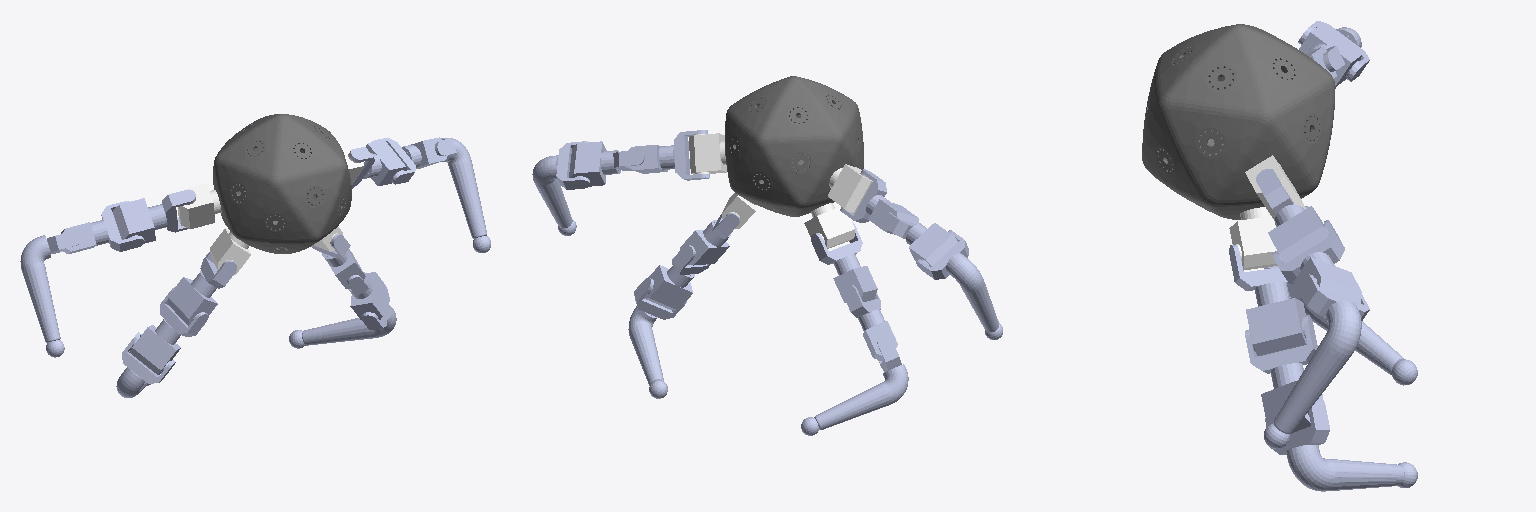
The robot description file, URDF, robot "mod_test":
<?xml version="1.0" encoding="utf-8"?>
<robot
  name="mod_test">
  <link
    name="base_link">
    <inertial>
      <origin
        xyz="-1.5226495220944E-06 1.5812928362389E-07 -5.05247252856584E-07"
        rpy="0 0 0" />
      <mass
        value="0.422806992949252" />
      <inertia
        ixx="0.00237499139253511"
        ixy="1.5717831530364E-08"
        ixz="1.49286265366169E-08"
        iyy="0.00237502154661776"
        iyz="-2.02154172619351E-08"
        izz="0.00237502595466009" />
    </inertial>
    <visual>
      <origin
        xyz="0 0 0"
        rpy="0 0 0" />
      <geometry>
        <mesh
          filename="package://meshes/base_link.STL" />
      </geometry>
      <material
        name="">
        <color
          rgba="0.498039215686275 0.498039215686275 0.498039215686275 1" />
      </material>
    </visual>
    <collision>
      <origin
        xyz="0 0 0"
        rpy="0 0 0" />
      <geometry>
        <mesh
          filename="package://meshes/base_link.STL" />
      </geometry>
    </collision>
  </link>
  <link
   name="160">
   <inertial>
      <origin
        xyz="0 0 0.028508"
        rpy="0 0 0" />
      <mass
        value="0.076173" />
      <inertia
        ixx="3.054E-05"
        ixy="0.000000"
        ixz="-0.000000"
        iyy="2.1077E-05"
        iyz="-0.000000"
        izz="2.1165E-05" />
    </inertial>
    <visual>
      <origin
        xyz="0 0 0"
        rpy="0 0 0" />
      <geometry>
        <mesh
          filename="package://meshes/1.STL" />
      </geometry>
      <material
        name="">
        <color
          rgba="1 1 1 1" />
      </material>
    </visual>
    <collision>
      <origin
        xyz="0 0 0"
        rpy="0 0 0" />
      <geometry>
        <mesh
          filename="package://meshes/1.STL" />
      </geometry>
    </collision>
  </link>
  <joint
    name="body_160"
    type="fixed">
    <origin
        xyz="0.051623 0.016773 -0.071046"
        rpy="-3.141593 0.652404 -2.827433" />
    <parent
      link="base_link" />
    <child
      link="160" />
    <axis
      xyz="0 0 0" />
  </joint>
  <link
    name="161">
    <inertial>
      <origin
        xyz="0.060018 -1.4108E-06 1.4108E-06"
        rpy="0 0 0" />
    <mass
        value="0.10689" />
      <inertia
        ixx="3.2684e-05"
        ixy="-2.5662e-09"
        ixz="2.5662e-09"
        iyy="9.1229e-05"
        iyz="4.0975e-06"
        izz="7.7485e-05" />
    </inertial>
    <visual>
      <origin
        xyz="0 0 0"
        rpy="0 0 0" />
      <geometry>
        <mesh
          filename="package://meshes/module1.STL" />
      </geometry>
      <material
        name="">
        <color
          rgba="0.79216 0.81961 0.93333 1" />
      </material>
    </visual>
    <collision>
      <origin
        xyz="0 0 0"
        rpy="0 0 0" />
      <geometry>
        <mesh
          filename="package://meshes/module1.STL" />
      </geometry>
    </collision>
  </link>
  <joint
    name="160_161"
    type="revolute">
    <origin
      xyz="0 0 0.04"
      rpy="-1.558 -1.5708 -0.012835" />
    <parent
      link="160" />
    <child
      link="161" />
    <axis
      xyz="0 0 1" />
    <limit
      lower="-6.28"
      upper="6.28"
      effort="10"
      velocity="100" />
  </joint>
  <link
    name="162">
    <inertial>
      <origin
        xyz="0.060018 -1.4108E-06 1.4108E-06"
        rpy="0 0 0" />
    <mass
        value="0.10689" />
      <inertia
        ixx="3.2684e-05"
        ixy="-2.5662e-09"
        ixz="2.5662e-09"
        iyy="9.1229e-05"
        iyz="4.0975e-06"
        izz="7.7485e-05" />
    </inertial>
    <visual>
      <origin
        xyz="0 0 0"
        rpy="0 0 0" />
      <geometry>
        <mesh
          filename="package://meshes/module7.STL" />
      </geometry>
      <material
        name="">
        <color
          rgba="0.79216 0.81961 0.93333 1" />
      </material>
    </visual>
    <collision>
      <origin
        xyz="0 0 0"
        rpy="0 0 0" />
      <geometry>
        <mesh
          filename="package://meshes/module7.STL" />
      </geometry>
    </collision>
  </link>
  <joint
    name="161_162"
    type="revolute">
    <origin
      xyz="0.0816 0 0"
      rpy="0.523599 0 0" />
    <parent
      link="161" />
    <child
      link="162" />
    <axis
      xyz="0 0 1" />
    <limit
      lower="-6.28"
      upper="6.28"
      effort="10"
      velocity="100" />
  </joint>
  <link
    name="163">
    <inertial>
      <origin
        xyz="0.051733 -0.042281 -1.3878E-17"
        rpy="0 0 0" />
    <mass
        value="0.12059" />
      <inertia
        ixx="0.00025425"
        ixy="4.8319E-05"
        ixz="0"
        iyy="5.0194E-05"
        iyz="-3.3141E-21"
        izz="0.00027482" />
    </inertial>
    <visual>
      <origin
        xyz="0 0 0"
        rpy="0 0 0" />
      <geometry>
        <mesh
          filename="package://meshes/leg.STL" />
      </geometry>
      <material
        name="">
        <color
          rgba="0.79216 0.81961 0.93333 1" />
      </material>
    </visual>
    <collision>
      <origin
        xyz="0 0 0"
        rpy="0 0 0" />
      <geometry>
        <mesh
          filename="package://meshes/leg.STL" />
      </geometry>
    </collision>
  </link>
  <joint
    name="162_163"
    type="revolute">
    <origin
      xyz="0.0816 0 0"
      rpy="3.665191 0 0" />
    <parent
      link="162" />
    <child
      link="163" />
    <axis
      xyz="0 0 1" />
    <limit
      lower="-6.28"
      upper="6.28"
      effort="10"
      velocity="100" />
  </joint>
  <link
   name="110">
   <inertial>
      <origin
        xyz="0 0 0.028508"
        rpy="0 0 0" />
      <mass
        value="0.076173" />
      <inertia
        ixx="3.054E-05"
        ixy="-0.000000"
        ixz="-0.000000"
        iyy="2.1077E-05"
        iyz="-0.000000"
        izz="2.1165E-05" />
    </inertial>
    <visual>
      <origin
        xyz="0 0 0"
        rpy="0 0 0" />
      <geometry>
        <mesh
          filename="package://meshes/1.STL" />
      </geometry>
      <material
        name="">
        <color
          rgba="1 1 1 1" />
      </material>
    </visual>
    <collision>
      <origin
        xyz="0 0 0"
        rpy="0 0 0" />
      <geometry>
        <mesh
          filename="package://meshes/1.STL" />
      </geometry>
    </collision>
  </link>
  <joint
    name="body_110"
    type="fixed">
    <origin
        xyz="0.083523 0.027138 -0.016769"
        rpy="-1.787804 0.513383 -1.364500" />
    <parent
      link="base_link" />
    <child
      link="110" />
    <axis
      xyz="0 0 0" />
  </joint>
  <link
    name="111">
    <inertial>
      <origin
        xyz="0.060018 -1.4108E-06 1.4108E-06"
        rpy="0 0 0" />
    <mass
        value="0.10689" />
      <inertia
        ixx="3.2684e-05"
        ixy="-2.5662e-09"
        ixz="2.5662e-09"
        iyy="8.4132e-05"
        iyz="-2.1275e-13"
        izz="8.4583e-05" />
    </inertial>
    <visual>
      <origin
        xyz="0 0 0"
        rpy="0 0 0" />
      <geometry>
        <mesh
          filename="package://meshes/module9.STL" />
      </geometry>
      <material
        name="">
        <color
          rgba="0.79216 0.81961 0.93333 1" />
      </material>
    </visual>
    <collision>
      <origin
        xyz="0 0 0"
        rpy="0 0 0" />
      <geometry>
        <mesh
          filename="package://meshes/module9.STL" />
      </geometry>
    </collision>
  </link>
  <joint
    name="110_111"
    type="revolute">
    <origin
      xyz="0 0 0.04"
      rpy="-1.558 -1.5708 -0.012835" />
    <parent
      link="110" />
    <child
      link="111" />
    <axis
      xyz="0 0 1" />
    <limit
      lower="-6.28"
      upper="6.28"
      effort="10"
      velocity="100" />
  </joint>
  <link
    name="112">
    <inertial>
      <origin
        xyz="0.060018 -1.4108E-06 1.4108E-06"
        rpy="0 0 0" />
    <mass
        value="0.10689" />
      <inertia
        ixx="3.2684e-05"
        ixy="-2.5662e-09"
        ixz="2.5662e-09"
        iyy="8.6498e-05"
        iyz="-4.0975e-06"
        izz="8.2217e-05" />
    </inertial>
    <visual>
      <origin
        xyz="0 0 0"
        rpy="0 0 0" />
      <geometry>
        <mesh
          filename="package://meshes/module10.STL" />
      </geometry>
      <material
        name="">
        <color
          rgba="0.79216 0.81961 0.93333 1" />
      </material>
    </visual>
    <collision>
      <origin
        xyz="0 0 0"
        rpy="0 0 0" />
      <geometry>
        <mesh
          filename="package://meshes/module10.STL" />
      </geometry>
    </collision>
  </link>
  <joint
    name="111_112"
    type="revolute">
    <origin
      xyz="0.0816 0 0"
      rpy="4.712389 0 0" />
    <parent
      link="111" />
    <child
      link="112" />
    <axis
      xyz="0 0 1" />
    <limit
      lower="-6.28"
      upper="6.28"
      effort="10"
      velocity="100" />
  </joint>
  <link
    name="113">
    <inertial>
      <origin
        xyz="0.051733 -0.042281 -1.3878E-17"
        rpy="0 0 0" />
    <mass
        value="0.12059" />
      <inertia
        ixx="0.00025425"
        ixy="4.8319E-05"
        ixz="0"
        iyy="5.0194E-05"
        iyz="-3.3141E-21"
        izz="0.00027482" />
    </inertial>
    <visual>
      <origin
        xyz="0 0 0"
        rpy="0 0 0" />
      <geometry>
        <mesh
          filename="package://meshes/leg.STL" />
      </geometry>
      <material
        name="">
        <color
          rgba="0.79216 0.81961 0.93333 1" />
      </material>
    </visual>
    <collision>
      <origin
        xyz="0 0 0"
        rpy="0 0 0" />
      <geometry>
        <mesh
          filename="package://meshes/leg.STL" />
      </geometry>
    </collision>
  </link>
  <joint
    name="112_113"
    type="revolute">
    <origin
      xyz="0.0816 0 0"
      rpy="5.235988 0 0" />
    <parent
      link="112" />
    <child
      link="113" />
    <axis
      xyz="0 0 1" />
    <limit
      lower="-6.28"
      upper="6.28"
      effort="10"
      velocity="100" />
  </joint>
  <link
   name="130">
   <inertial>
      <origin
        xyz="0 0 0.028508"
        rpy="0 0 0" />
      <mass
        value="0.076173" />
      <inertia
        ixx="3.054E-05"
        ixy="0.000000"
        ixz="-0.000000"
        iyy="2.1077E-05"
        iyz="-0.000000"
        izz="2.1165E-05" />
    </inertial>
    <visual>
      <origin
        xyz="0 0 0"
        rpy="0 0 0" />
      <geometry>
        <mesh
          filename="package://meshes/1.STL" />
      </geometry>
      <material
        name="">
        <color
          rgba="1 1 1 1" />
      </material>
    </visual>
    <collision>
      <origin
        xyz="0 0 0"
        rpy="0 0 0" />
      <geometry>
        <mesh
          filename="package://meshes/1.STL" />
      </geometry>
    </collision>
  </link>
  <joint
    name="body_130"
    type="fixed">
    <origin
        xyz="-0.083523 0.027138 -0.016769"
        rpy="1.787804 0.513383 -1.777092" />
    <parent
      link="base_link" />
    <child
      link="130" />
    <axis
      xyz="0 0 0" />
  </joint>
  <link
    name="131">
    <inertial>
      <origin
        xyz="0.060018 -1.4108E-06 1.4108E-06"
        rpy="0 0 0" />
    <mass
        value="0.10689" />
      <inertia
        ixx="3.2684e-05"
        ixy="-2.5662e-09"
        ixz="2.5662e-09"
        iyy="8.4132e-05"
        iyz="-2.1275e-13"
        izz="8.4583e-05" />
    </inertial>
    <visual>
      <origin
        xyz="0 0 0"
        rpy="0 0 0" />
      <geometry>
        <mesh
          filename="package://meshes/module3.STL" />
      </geometry>
      <material
        name="">
        <color
          rgba="0.79216 0.81961 0.93333 1" />
      </material>
    </visual>
    <collision>
      <origin
        xyz="0 0 0"
        rpy="0 0 0" />
      <geometry>
        <mesh
          filename="package://meshes/module3.STL" />
      </geometry>
    </collision>
  </link>
  <joint
    name="130_131"
    type="revolute">
    <origin
      xyz="0 0 0.04"
      rpy="-1.558 -1.5708 -0.012835" />
    <parent
      link="130" />
    <child
      link="131" />
    <axis
      xyz="0 0 1" />
    <limit
      lower="-6.28"
      upper="6.28"
      effort="10"
      velocity="100" />
  </joint>
  <link
    name="132">
    <inertial>
      <origin
        xyz="0.060018 -1.4108E-06 1.4108E-06"
        rpy="0 0 0" />
    <mass
        value="0.10689" />
      <inertia
        ixx="3.2684e-05"
        ixy="-2.5662e-09"
        ixz="2.5662e-09"
        iyy="8.6498e-05"
        iyz="4.0975e-06"
        izz="8.2217e-05" />
    </inertial>
    <visual>
      <origin
        xyz="0 0 0"
        rpy="0 0 0" />
      <geometry>
        <mesh
          filename="package://meshes/module2.STL" />
      </geometry>
      <material
        name="">
        <color
          rgba="0.79216 0.81961 0.93333 1" />
      </material>
    </visual>
    <collision>
      <origin
        xyz="0 0 0"
        rpy="0 0 0" />
      <geometry>
        <mesh
          filename="package://meshes/module2.STL" />
      </geometry>
    </collision>
  </link>
  <joint
    name="131_132"
    type="revolute">
    <origin
      xyz="0.0816 0 0"
      rpy="1.570796 0 0" />
    <parent
      link="131" />
    <child
      link="132" />
    <axis
      xyz="0 0 1" />
    <limit
      lower="-6.28"
      upper="6.28"
      effort="10"
      velocity="100" />
  </joint>
  <link
    name="133">
    <inertial>
      <origin
        xyz="0.051733 -0.042281 -1.3878E-17"
        rpy="0 0 0" />
    <mass
        value="0.12059" />
      <inertia
        ixx="0.00025425"
        ixy="4.8319E-05"
        ixz="0"
        iyy="5.0194E-05"
        iyz="-3.3141E-21"
        izz="0.00027482" />
    </inertial>
    <visual>
      <origin
        xyz="0 0 0"
        rpy="0 0 0" />
      <geometry>
        <mesh
          filename="package://meshes/leg.STL" />
      </geometry>
      <material
        name="">
        <color
          rgba="0.79216 0.81961 0.93333 1" />
      </material>
    </visual>
    <collision>
      <origin
        xyz="0 0 0"
        rpy="0 0 0" />
      <geometry>
        <mesh
          filename="package://meshes/leg.STL" />
      </geometry>
    </collision>
  </link>
  <joint
    name="132_133"
    type="revolute">
    <origin
      xyz="0.0816 0 0"
      rpy="1.047198 0 0" />
    <parent
      link="132" />
    <child
      link="133" />
    <axis
      xyz="0 0 1" />
    <limit
      lower="-6.28"
      upper="6.28"
      effort="10"
      velocity="100" />
  </joint>
  <link
   name="180">
   <inertial>
      <origin
        xyz="0 0 0.028508"
        rpy="0 0 0" />
      <mass
        value="0.076173" />
      <inertia
        ixx="3.054E-05"
        ixy="0.000000"
        ixz="-0.000000"
        iyy="2.1077E-05"
        iyz="-0.000000"
        izz="2.1165E-05" />
    </inertial>
    <visual>
      <origin
        xyz="0 0 0"
        rpy="0 0 0" />
      <geometry>
        <mesh
          filename="package://meshes/1.STL" />
      </geometry>
      <material
        name="">
        <color
          rgba="1 1 1 1" />
      </material>
    </visual>
    <collision>
      <origin
        xyz="0 0 0"
        rpy="0 0 0" />
      <geometry>
        <mesh
          filename="package://meshes/1.STL" />
      </geometry>
    </collision>
  </link>
  <joint
    name="body_180"
    type="fixed">
    <origin
        xyz="-0.051623 0.016773 -0.071046"
        rpy="-3.141593 0.652404 -0.314159" />
    <parent
      link="base_link" />
    <child
      link="180" />
    <axis
      xyz="0 0 0" />
  </joint>
  <link
    name="181">
    <inertial>
      <origin
        xyz="0.060018 -1.4108E-06 1.4108E-06"
        rpy="0 0 0" />
    <mass
        value="0.10689" />
      <inertia
        ixx="3.2684e-05"
        ixy="-2.5662e-09"
        ixz="2.5662e-09"
        iyy="9.1229e-05"
        iyz="-4.0975e-06"
        izz="7.7485e-05" />
    </inertial>
    <visual>
      <origin
        xyz="0 0 0"
        rpy="0 0 0" />
      <geometry>
        <mesh
          filename="package://meshes/module11.STL" />
      </geometry>
      <material
        name="">
        <color
          rgba="0.79216 0.81961 0.93333 1" />
      </material>
    </visual>
    <collision>
      <origin
        xyz="0 0 0"
        rpy="0 0 0" />
      <geometry>
        <mesh
          filename="package://meshes/module11.STL" />
      </geometry>
    </collision>
  </link>
  <joint
    name="180_181"
    type="revolute">
    <origin
      xyz="0 0 0.04"
      rpy="-1.558 -1.5708 -0.012835" />
    <parent
      link="180" />
    <child
      link="181" />
    <axis
      xyz="0 0 1" />
    <limit
      lower="-6.28"
      upper="6.28"
      effort="10"
      velocity="100" />
  </joint>
  <link
    name="182">
    <inertial>
      <origin
        xyz="0.060018 -1.4108E-06 1.4108E-06"
        rpy="0 0 0" />
    <mass
        value="0.10689" />
      <inertia
        ixx="3.2684e-05"
        ixy="-2.5662e-09"
        ixz="2.5662e-09"
        iyy="9.1229e-05"
        iyz="-4.0975e-06"
        izz="7.7485e-05" />
    </inertial>
    <visual>
      <origin
        xyz="0 0 0"
        rpy="0 0 0" />
      <geometry>
        <mesh
          filename="package://meshes/module5.STL" />
      </geometry>
      <material
        name="">
        <color
          rgba="0.79216 0.81961 0.93333 1" />
      </material>
    </visual>
    <collision>
      <origin
        xyz="0 0 0"
        rpy="0 0 0" />
      <geometry>
        <mesh
          filename="package://meshes/module5.STL" />
      </geometry>
    </collision>
  </link>
  <joint
    name="181_182"
    type="revolute">
    <origin
      xyz="0.0816 0 0"
      rpy="5.759587 0 0" />
    <parent
      link="181" />
    <child
      link="182" />
    <axis
      xyz="0 0 1" />
    <limit
      lower="-6.28"
      upper="6.28"
      effort="10"
      velocity="100" />
  </joint>
  <link
    name="183">
    <inertial>
      <origin
        xyz="0.051733 -0.042281 -1.3878E-17"
        rpy="0 0 0" />
    <mass
        value="0.12059" />
      <inertia
        ixx="0.00025425"
        ixy="4.8319E-05"
        ixz="0"
        iyy="5.0194E-05"
        iyz="-3.3141E-21"
        izz="0.00027482" />
    </inertial>
    <visual>
      <origin
        xyz="0 0 0"
        rpy="0 0 0" />
      <geometry>
        <mesh
          filename="package://meshes/leg.STL" />
      </geometry>
      <material
        name="">
        <color
          rgba="0.79216 0.81961 0.93333 1" />
      </material>
    </visual>
    <collision>
      <origin
        xyz="0 0 0"
        rpy="0 0 0" />
      <geometry>
        <mesh
          filename="package://meshes/leg.STL" />
      </geometry>
    </collision>
  </link>
  <joint
    name="182_183"
    type="revolute">
    <origin
      xyz="0.0816 0 0"
      rpy="2.617994 0 0" />
    <parent
      link="182" />
    <child
      link="183" />
    <axis
      xyz="0 0 1" />
    <limit
      lower="-6.28"
      upper="6.28"
      effort="10"
      velocity="100" />
  </joint>
  <link
    name = "ball_1">
    <inertial>
    <origin
        xyz="0 0 0"
        rpy="0 0 0" />
    <mass
        value="0" />
      <inertia
        ixx="0"
        ixy="0"
        ixz="0"
        iyy="0"
        iyz="0"
        izz="0" />
    </inertial>    <visual>
      <origin
        xyz="0 0 0"
        rpy="0 0 0" />
     <geometry>
        <sphere radius = "0.01"/>
      </geometry>
      <material
        name="green">
        <color
          rgba="0.22 1 0.4 1" />
      </material>
    </visual>
  </link>
  <joint
  name="163_ball1"
  type="fixed">
    <origin
      xyz="0.0612 -0.13431 0"
      rpy="0 0 0" />
    <parent
      link="163" />
    <child
      link="ball_1" />
    <axis
      xyz="0 0 0" />
  </joint>
  <link
    name = "ball_2">
    <inertial>
    <origin
        xyz="0 0 0"
        rpy="0 0 0" />
    <mass
        value="0" />
      <inertia
        ixx="0"
        ixy="0"
        ixz="0"
        iyy="0"
        iyz="0"
        izz="0" />
    </inertial>    <visual>
      <origin
        xyz="0 0 0"
        rpy="0 0 0" />
      <geometry>
        <sphere radius = "0.01"/>
      </geometry>
      <material
        name="blue">
        <color
          rgba="0.16 0.52 0.8 1" />
      </material>
    </visual>
  </link>
  <joint
  name="113_ball2"
  type="fixed">
    <origin
      xyz="0.0612 -0.13431 0"
      rpy="0 0 0" />
    <parent
      link="113" />
    <child
      link="ball_2" />
    <axis
      xyz="0 0 0" />
  </joint>
  <link
    name = "ball_3">
    <inertial>
    <origin
        xyz="0 0 0"
        rpy="0 0 0" />
    <mass
        value="0" />
      <inertia
        ixx="0"
        ixy="0"
        ixz="0"
        iyy="0"
        iyz="0"
        izz="0" />
    </inertial>    <visual>
      <origin
        xyz="0 0 0"
        rpy="0 0 0" />
     <geometry>
        <sphere radius = "0.01"/>
      </geometry>
      <material
        name="blue">
        <color
          rgba="0.16 0.52 0.8 1" />
      </material>
    </visual>
  </link>
  <joint
  name="133_ball3"
  type="fixed">
    <origin
      xyz="0.0612 -0.13431 0"
      rpy="0 0 0" />
    <parent
      link="133" />
    <child
      link="ball_3" />
    <axis
      xyz="0 0 0" />
  </joint>
  <link
    name = "ball_4">
    <inertial>
    <origin
        xyz="0 0 0"
        rpy="0 0 0" />
    <mass
        value="0" />
      <inertia
        ixx="0"
        ixy="0"
        ixz="0"
        iyy="0"
        iyz="0"
        izz="0" />
    </inertial>    <visual>
      <origin
        xyz="0 0 0"
        rpy="0 0 0" />
      <geometry>
        <sphere radius = "0.01"/>
      </geometry>
      <material
        name="yellow">
        <color
          rgba="1 1 0 1" />
      </material>
    </visual>
  </link>
  <joint
  name="183_ball4"
  type="fixed">
    <origin
      xyz="0.0612 -0.13431 0"
      rpy="0 0 0" />
    <parent
      link="183" />
    <child
      link="ball_4" />
    <axis
      xyz="0 0 0" />
  </joint>
</robot>

--- Facts derived from the render (not from the file) ---
3 views of the same robot in one strip: view 1: azimuth 30°, elevation 25°; view 2: azimuth 150°, elevation 25°; view 3: azimuth 270°, elevation 25° (orthographic).
Model mod_test with 21 links and 20 joints (12 revolute, 8 fixed), rooted at base_link, posed all joints at 0.
Links seen in each view (by area): view 1: base_link, 133, 182, 113, 131, 181, 163, 132, 111, 183, 112, 162 (+3 smaller); view 2: base_link, 183, 133, 163, 113, 112, 162, 181, 132, 111, 182, 161 (+5 smaller); view 3: base_link, 113, 163, 161, 111, 162, 112, 160, 183, 132, 110, 133.
Link boxes in pixels (<box>): base_link: <box>213,114,351,253</box>; 133: <box>20,231,81,357</box>; 182: <box>129,286,208,374</box>; 113: <box>435,138,490,252</box>; 131: <box>113,189,195,243</box>; 181: <box>168,252,236,325</box>; 163: <box>289,287,396,348</box>; 132: <box>61,201,144,253</box>; 111: <box>349,140,406,188</box>; 183: <box>116,332,175,397</box>; 112: <box>371,137,447,184</box>; 162: <box>347,272,385,319</box>; base_link: <box>725,76,863,216</box>; 183: <box>801,335,908,435</box>; 133: <box>916,230,1002,339</box>; 163: <box>628,277,686,398</box>; 113: <box>532,141,589,235</box>; 112: <box>569,141,644,186</box>; 162: <box>644,245,710,309</box>; 181: <box>811,222,877,302</box>; 132: <box>878,211,957,266</box>; 111: <box>628,130,709,180</box>; 182: <box>842,285,897,361</box>; 161: <box>680,213,739,265</box>; base_link: <box>1142,24,1335,219</box>; 113: <box>1264,274,1369,448</box>; 163: <box>1265,397,1417,491</box>; 161: <box>1229,245,1306,355</box>; 111: <box>1256,169,1330,264</box>; 162: <box>1245,315,1322,434</box>; 112: <box>1272,220,1361,303</box>; 160: <box>1229,207,1277,270</box>; 183: <box>1290,291,1417,385</box>; 132: <box>1299,24,1361,86</box>; 110: <box>1245,155,1305,220</box>; 133: <box>1298,21,1369,81</box>.
Size in the robot's own frame: 0.693 by 0.2667 by 0.4368 metres.
Meshes: 11 distinct files referenced, 17 mesh visuals loaded (11 binary STL).